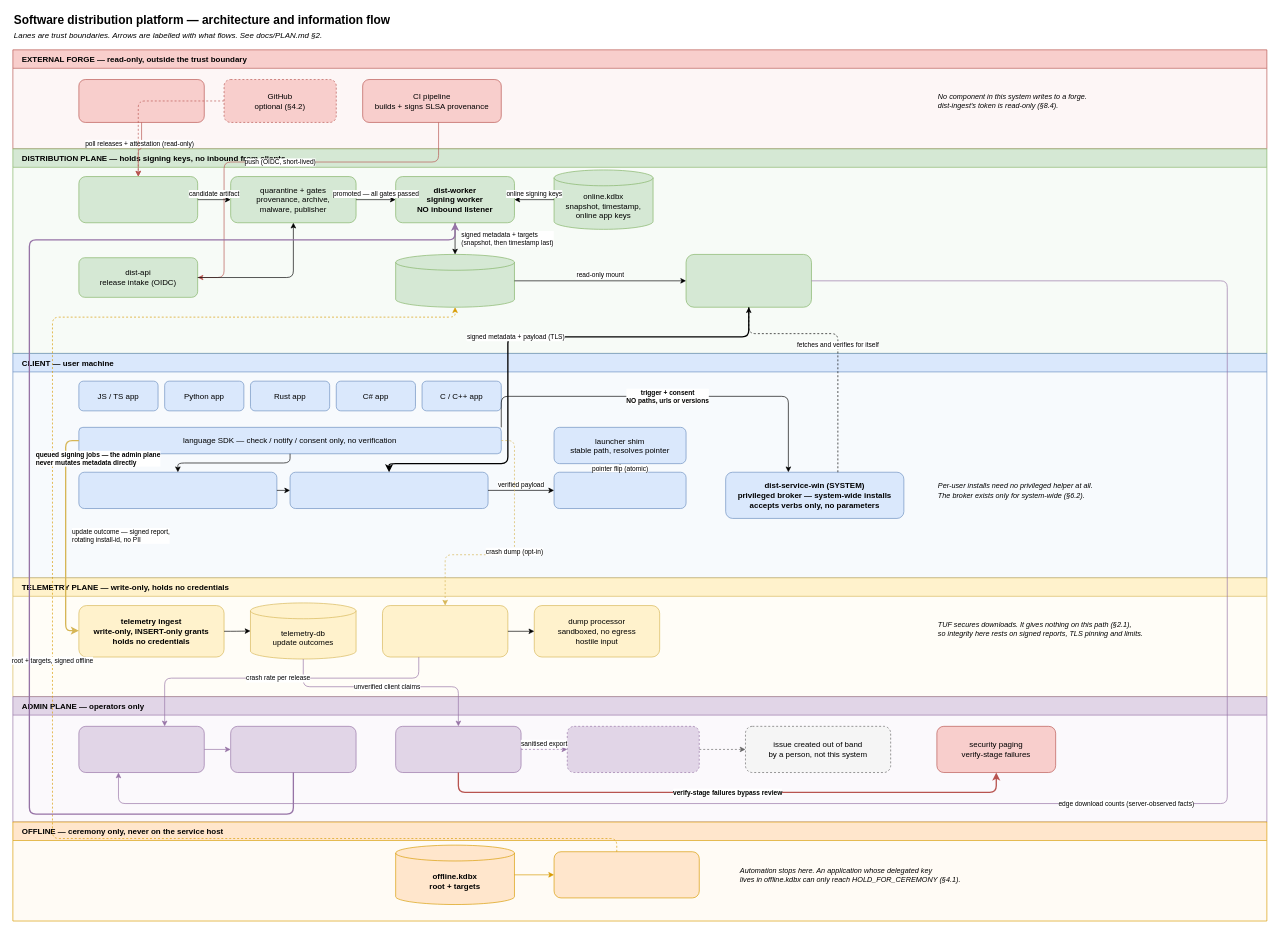
Some shapes in this 1278 by 933 pixel diagram are drawn without their labels. The centre of each missing label's shape, as x and y in pixels:
admin UI server-rendered, read-mostly: (x=141, y=749)
control queue pause, rollback, revoke two-person approval: (x=293, y=749)
crash service (self-hosted Sentry) opt-in dumps: (x=445, y=631)
dist-core (Rust) ONE TUF verifier — forked tuf crate: (x=388, y=490)
dist-core-ffi C ABI — all unsafe code lives here: (x=177, y=490)
dist-edge (nginx) static, read-only mount only public component: (x=748, y=280)
dist-ingest release poller outbound only, no keys: (x=138, y=199)
failure clustering fingerprint, rank by affected installs: (x=458, y=749)
GitLab (self-hosted) releases + attestations: (x=141, y=100)
human or LLM review reads untrusted content: (x=633, y=749)
installer A/B slots + pointer flip: (x=619, y=490)
signing ceremony one-shot container, offline machine: (x=626, y=874)
tuf-metadata + tuf-targets: (x=454, y=280)
